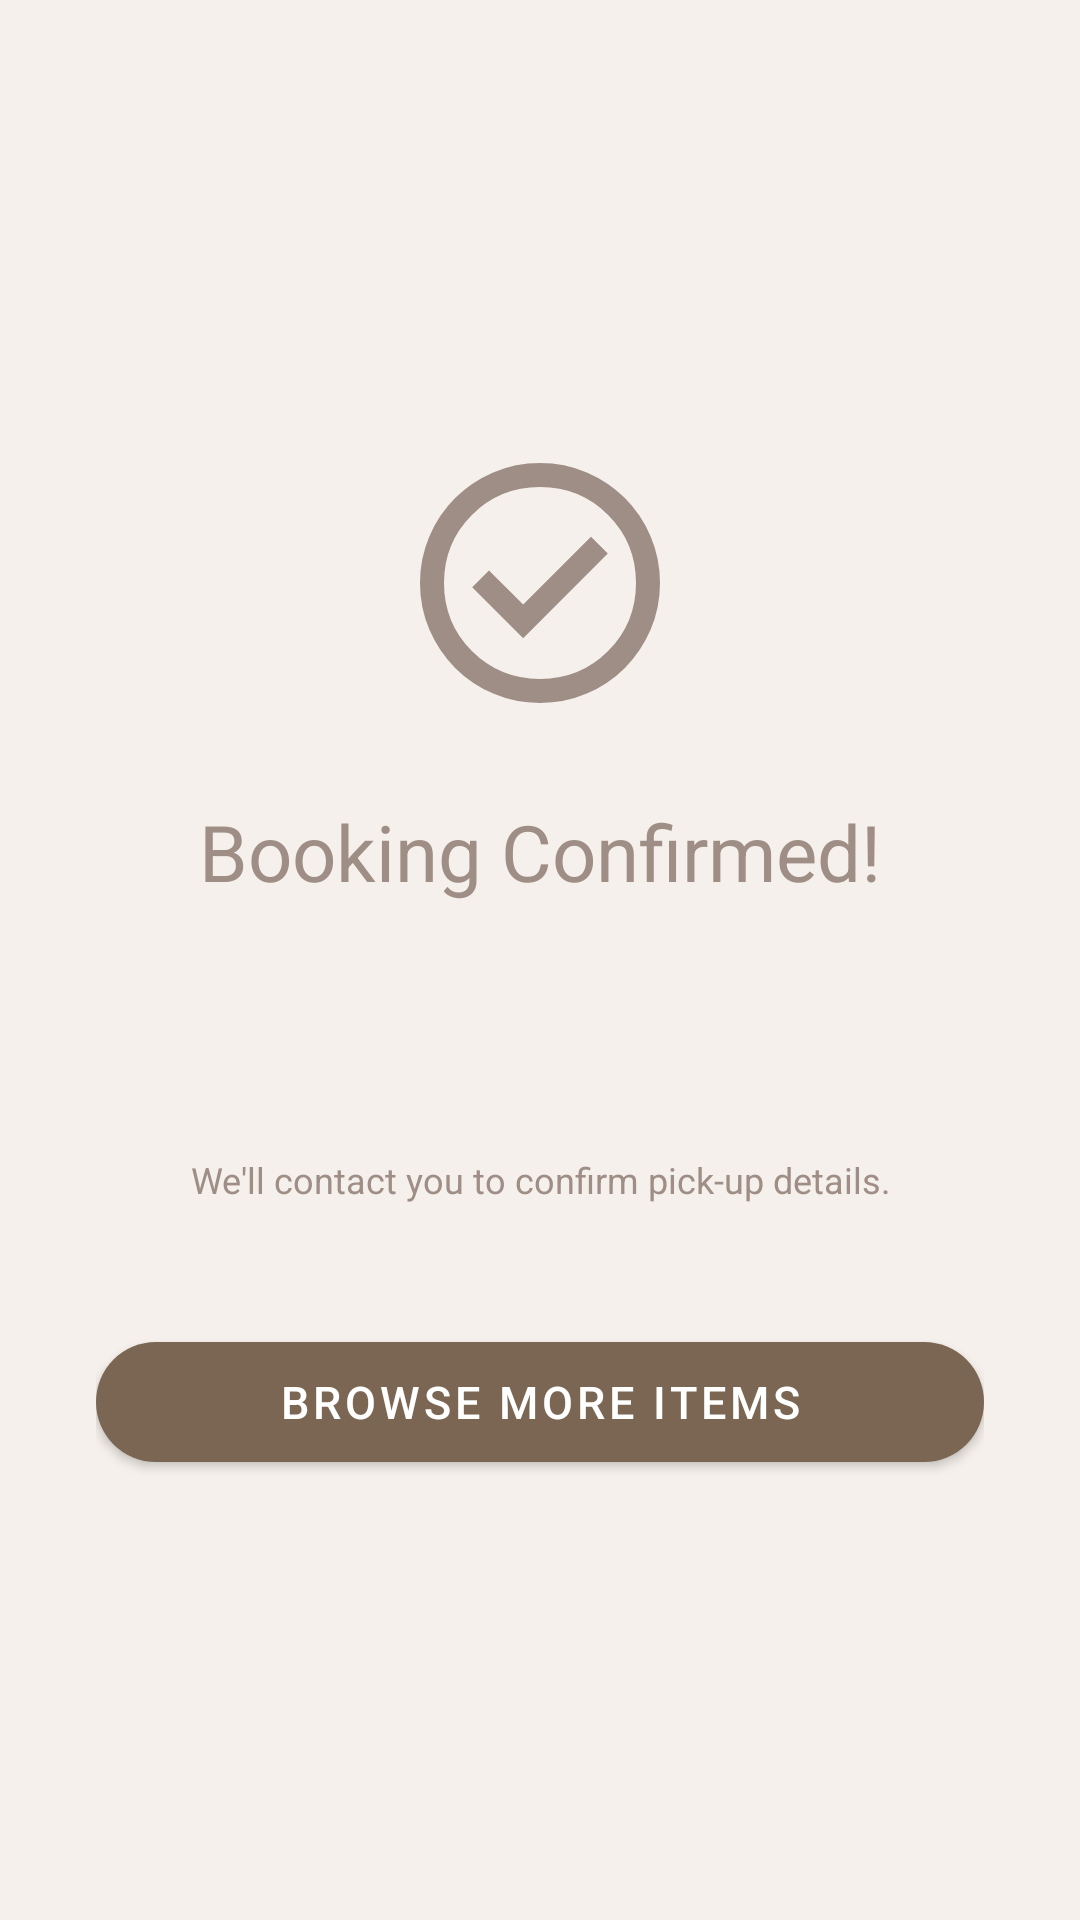

Named icons in this screenshot (1080×1920) and their centers, point (x, y):
check circle: point (540, 583)
